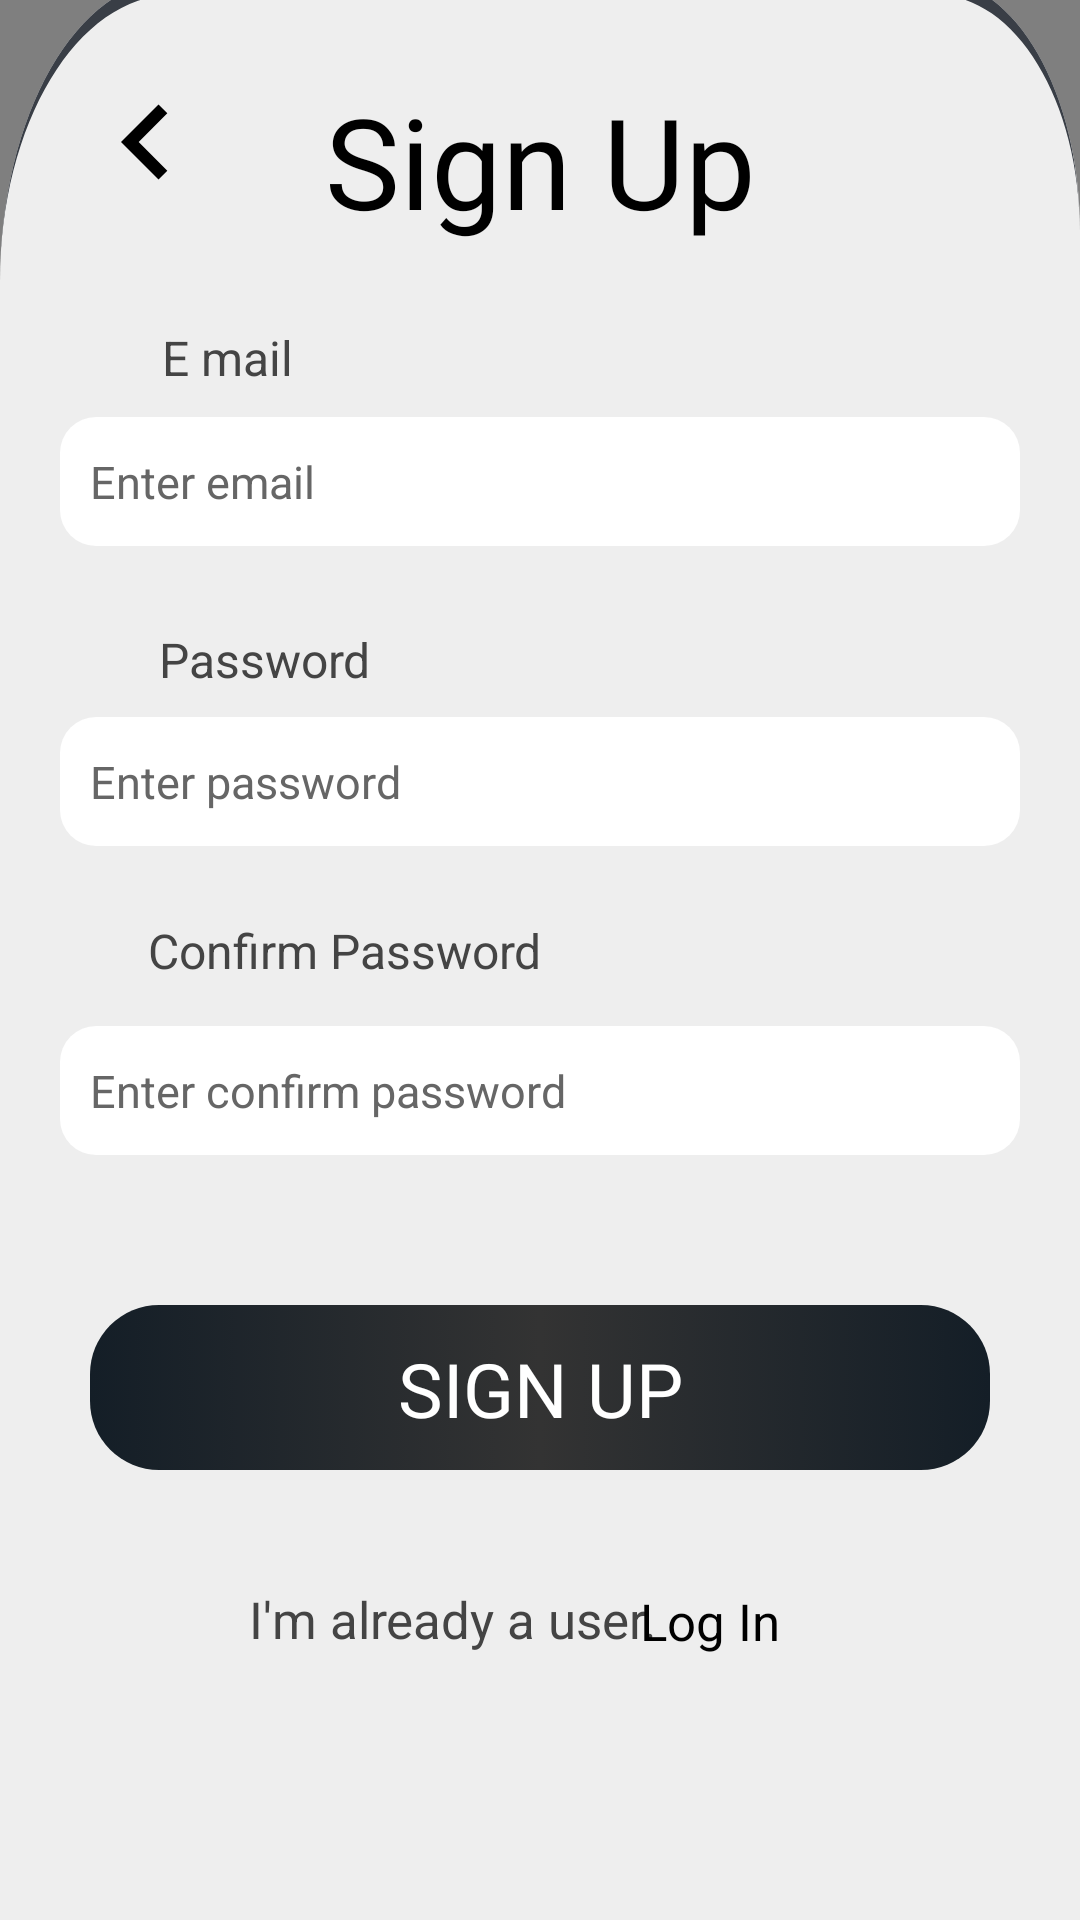

Point at icon controls on the screen. Image size 1080×1920, points as point (x, y).
chevron left: point (144, 142)
